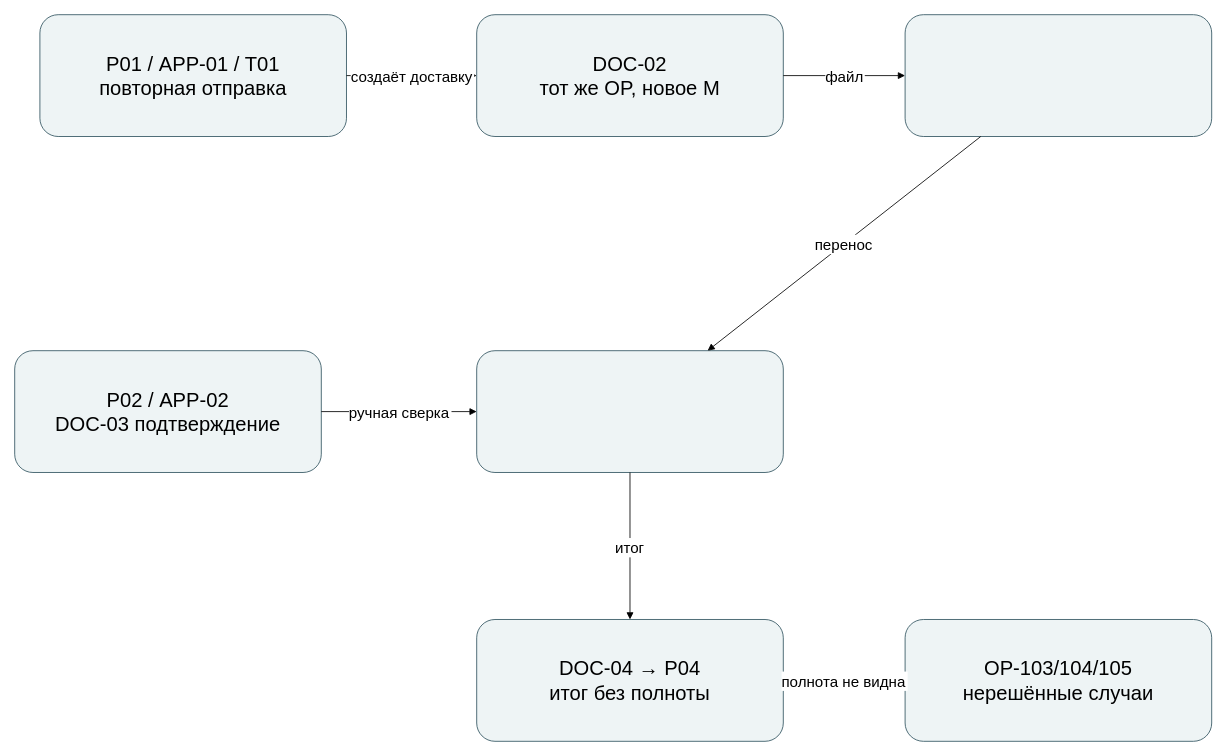
Image size: 1226x756. Some labels were removed from this diagram. The shapes that lost their labels are listed below. From the top down, each one's box as (x1, y1, x2, y2) in pixels, then its label:
(904, 14, 1212, 136): T04 → T03 задержка, риск диска
(476, 350, 783, 472): Р03 / APP-03 / T02 сумма строк
